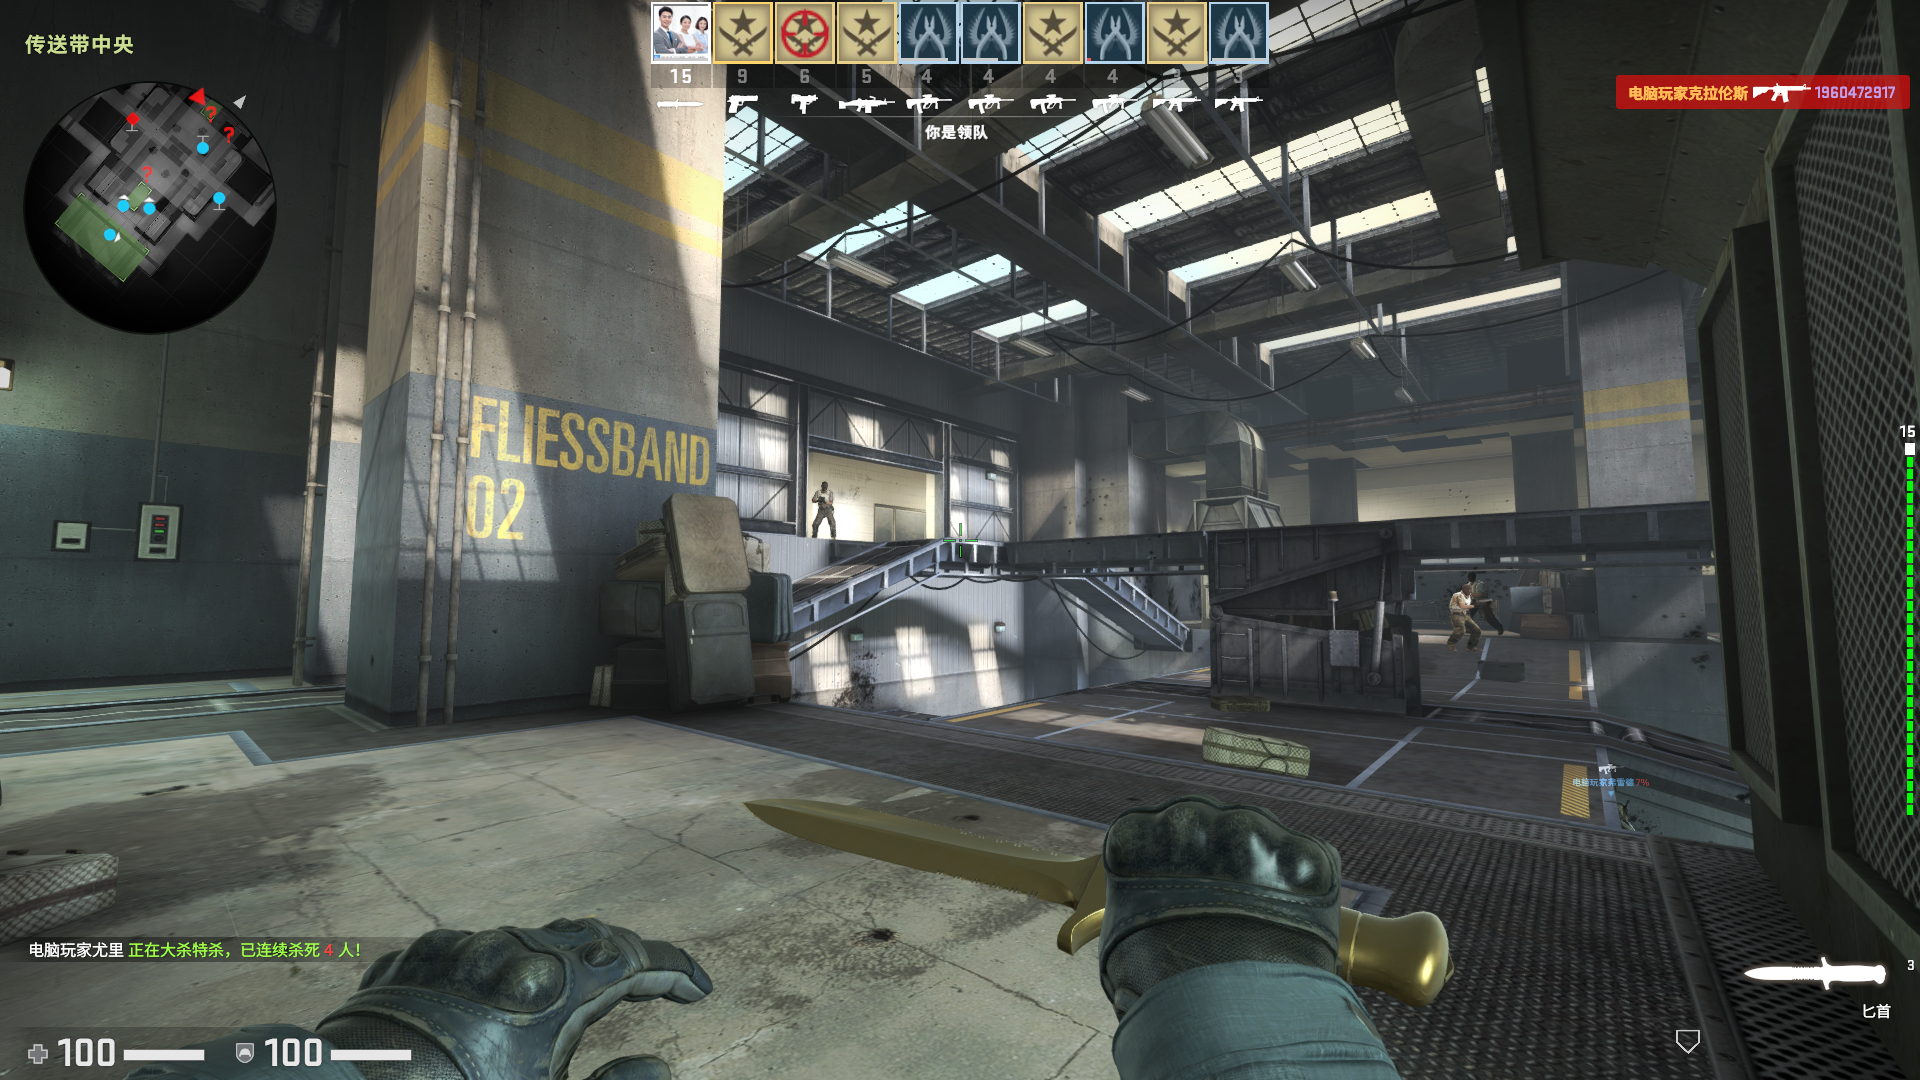person: (1442, 575, 1486, 650), (808, 478, 845, 541)
